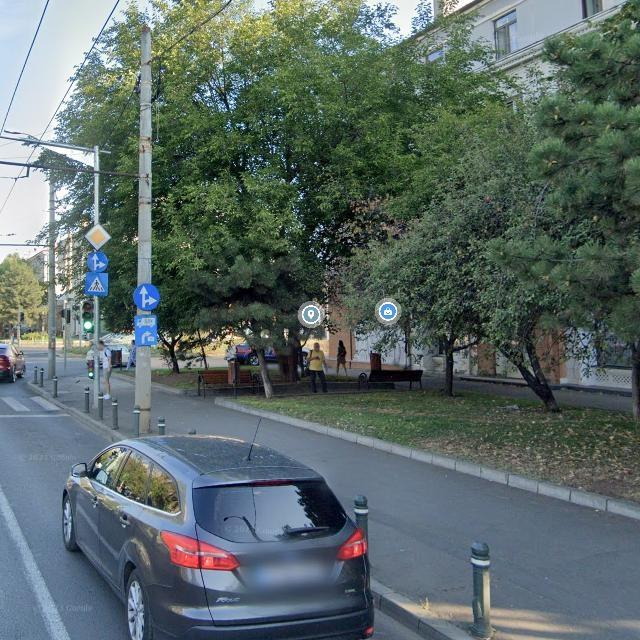info_crosswalk: (85, 272, 109, 296)
